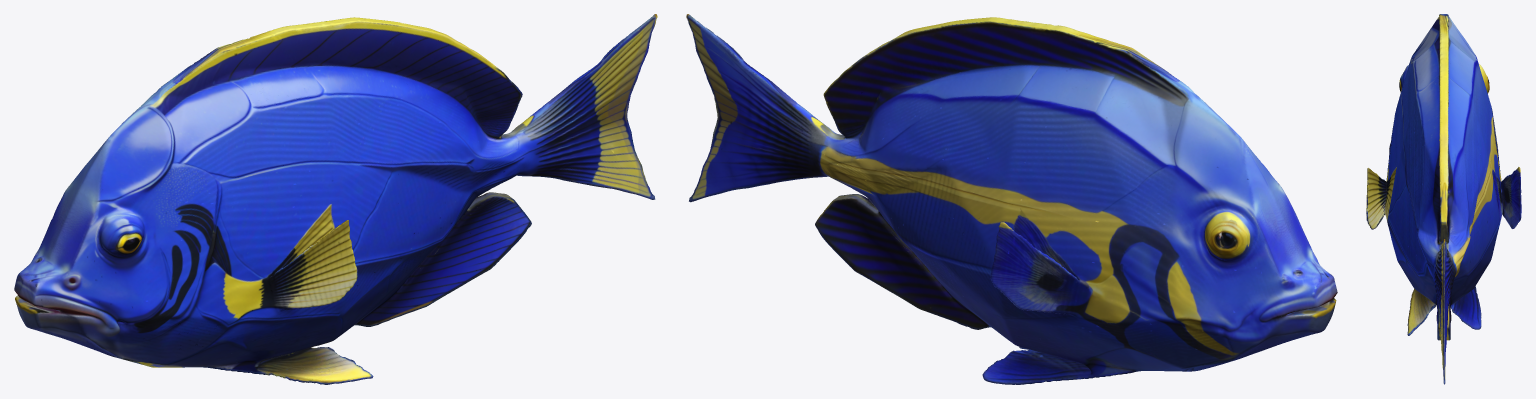
The model's file is Blue_Tang_texture.glb.
3 renders of one model, left to right at view 1: azimuth 30°, elevation 25°; view 2: azimuth 150°, elevation 25°; view 3: azimuth 270°, elevation 25°, orthographic. The views are drawn at different scales.
Size of the model in its own units: 2 by 1.04 by 0.5354.
Materials: 1 (1 with a texture image).
